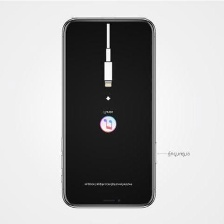phone: (56, 12, 160, 210)
